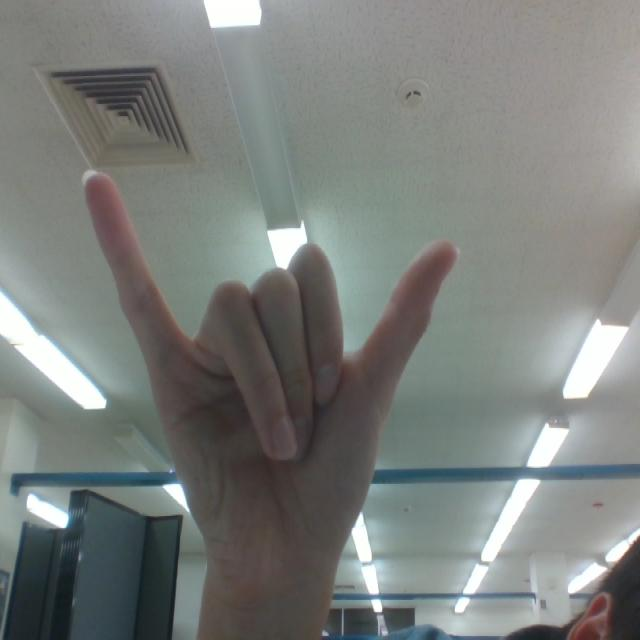Y: (62, 153, 487, 571)
